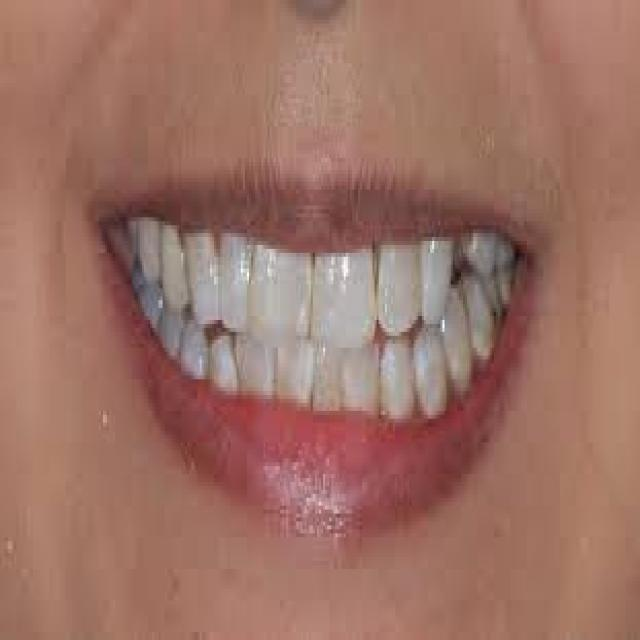tooth: (249, 233, 309, 340), (311, 237, 370, 336), (374, 225, 424, 328), (216, 217, 257, 332), (181, 217, 222, 324), (438, 285, 478, 387), (374, 324, 416, 419), (156, 209, 194, 312), (232, 320, 276, 403), (459, 260, 498, 352), (414, 324, 448, 419), (340, 336, 380, 415), (420, 221, 450, 324), (274, 324, 315, 399), (310, 332, 346, 407), (206, 320, 241, 395), (179, 308, 212, 383), (467, 217, 502, 273)
